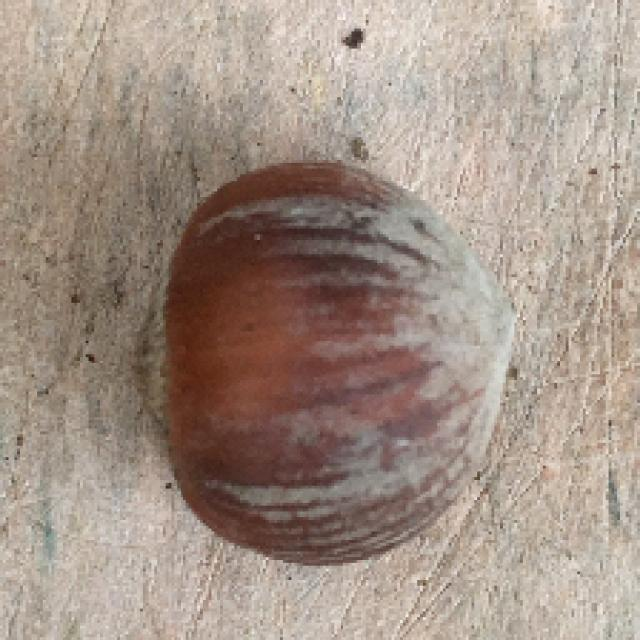qualityHazelnut: (145, 150, 519, 569)
